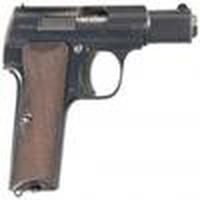gun: (3, 3, 200, 190)
